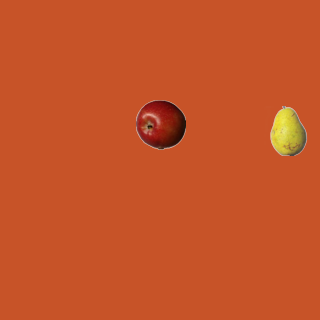Apple Braeburn: (135, 99, 185, 149)
Pear Monster: (263, 105, 313, 155)
